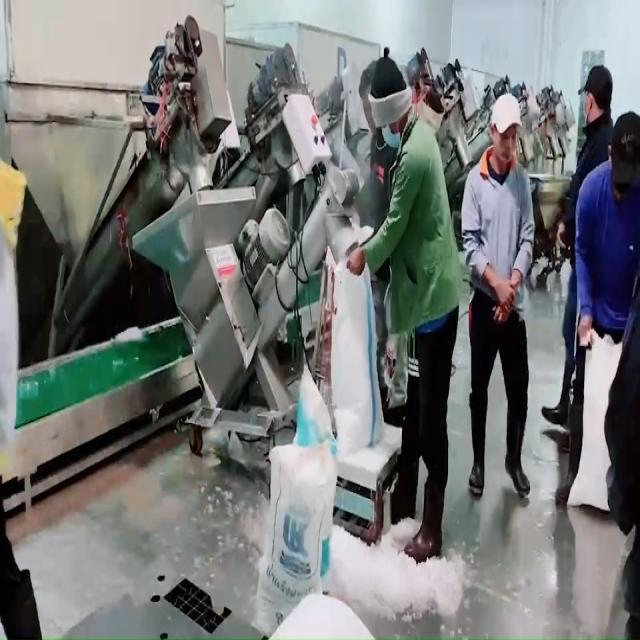ice-bag: (263, 439, 337, 636), (327, 265, 396, 462), (577, 316, 629, 526)
